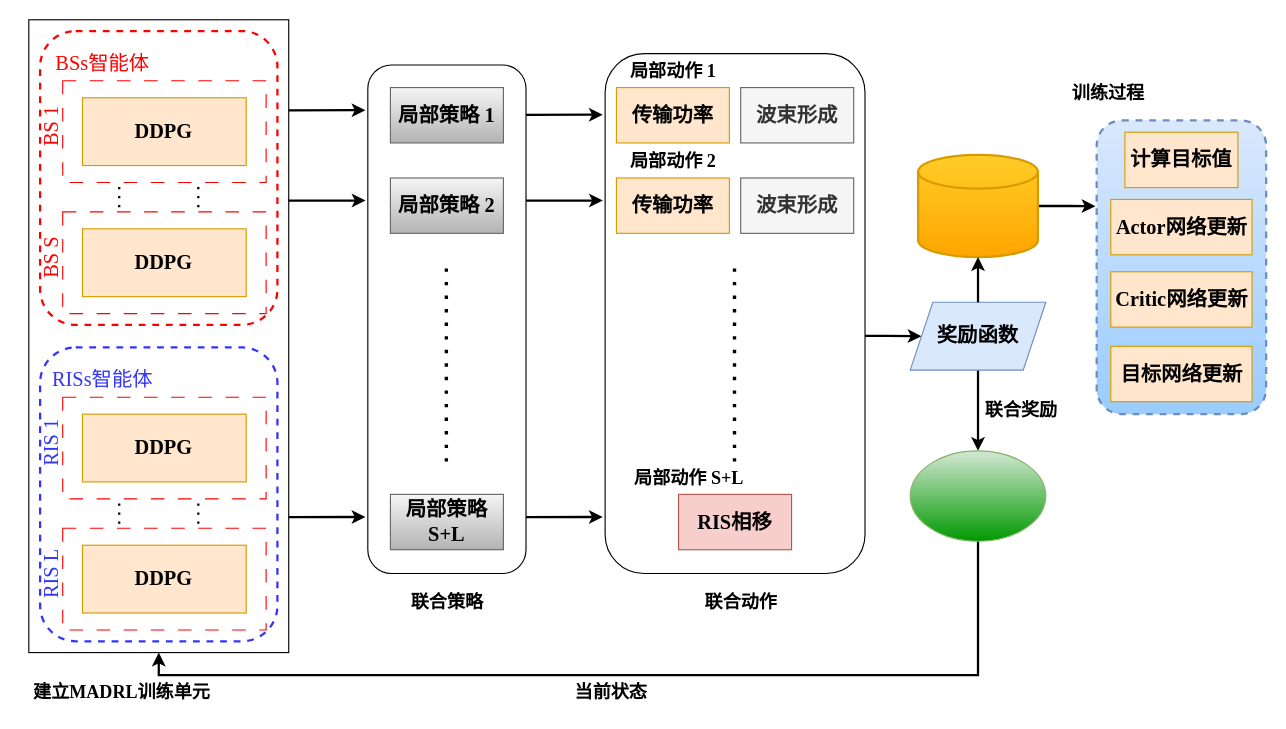
The diagram is 1286 pixels wide and 729 high, and some of its shapes have lost their labels. The box of each missing label's shape, as (x1, y1, x2, y2) in pixels:
环境更新: (909, 450, 1046, 541)
经验重放池 D: (916, 153, 1038, 258)
